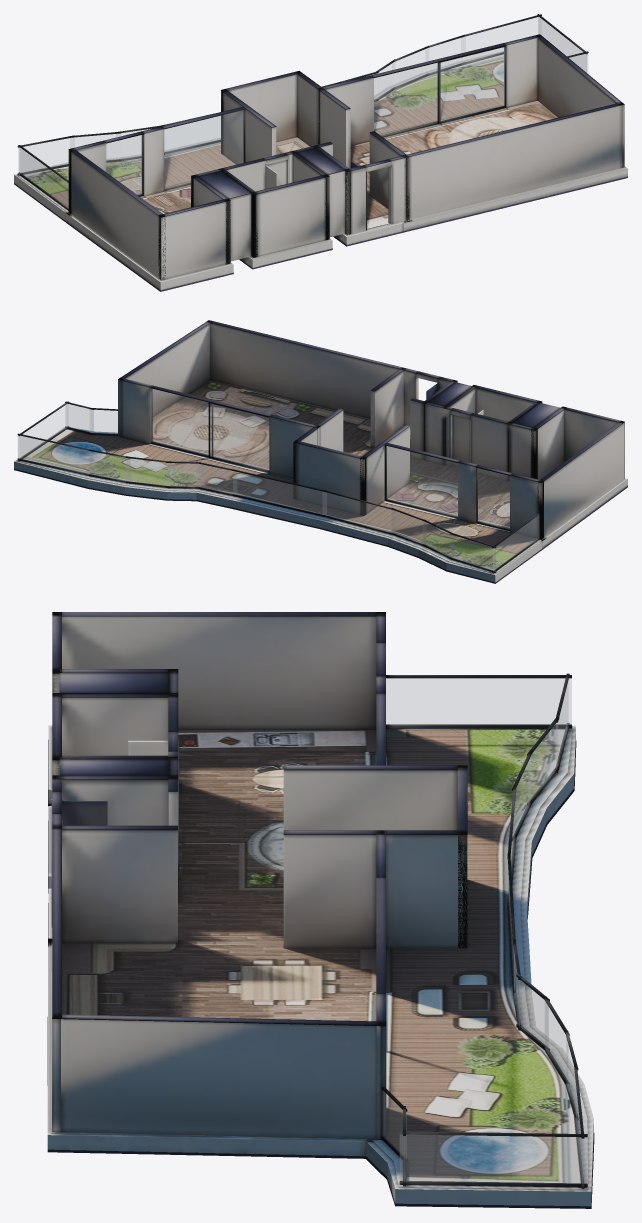
The picture shows the model from 3 angles, top to bottom: view 1: azimuth 30°, elevation 25°; view 2: azimuth 150°, elevation 25°; view 3: azimuth 270°, elevation 25°; orthographic projection. The views are drawn at different scales.
Visible parts, largest first — view 1: plan, glass2_m, glass1_m, glass0_m, railg3_m, railg9_m, railg12_m, railg13_m, railg2_m, railg4_m, railg5_m, railg11_m (+1 smaller); view 2: plan, glass2_m, glass1_m, railg8_m, railg3_m, glass0_m, railg9_m, railg13_m, railg2_m, railg5_m, railg12_m, railg4_m (+6 smaller); view 3: plan, railg2_m, railg13_m, railg6_m, railg11_m, railg5_m, railg0_m.
Boxes of the visible parts, x1,y1,x2,y2 form: plan: (14, 14, 627, 291); glass2_m: (374, 47, 504, 135); glass1_m: (164, 110, 243, 188); glass0_m: (106, 135, 142, 194); railg3_m: (461, 17, 540, 62); railg9_m: (165, 116, 220, 151); railg12_m: (18, 138, 74, 173); railg13_m: (19, 148, 68, 207); railg2_m: (538, 17, 586, 72); railg4_m: (425, 37, 464, 72); railg5_m: (392, 48, 428, 86); railg11_m: (70, 133, 120, 159); plan: (14, 320, 627, 583); glass2_m: (151, 389, 268, 470); glass1_m: (386, 446, 457, 516); railg8_m: (233, 471, 326, 515); railg3_m: (18, 436, 93, 474); glass0_m: (477, 468, 509, 528); railg9_m: (323, 492, 394, 533); railg13_m: (493, 515, 539, 571); railg2_m: (19, 404, 67, 458); railg5_m: (126, 458, 170, 486); railg12_m: (451, 535, 495, 570); railg4_m: (89, 451, 130, 481); plan: (47, 612, 594, 1208); railg2_m: (400, 1135, 587, 1183); railg13_m: (386, 678, 571, 724); railg6_m: (517, 978, 548, 1048); railg11_m: (528, 723, 557, 802); railg5_m: (545, 1002, 567, 1081); railg0_m: (383, 1091, 406, 1157).
Bounding box in the file's own units: 19.88 × 2.62 × 9.85.
Materials: 2 (1 with a texture image).
